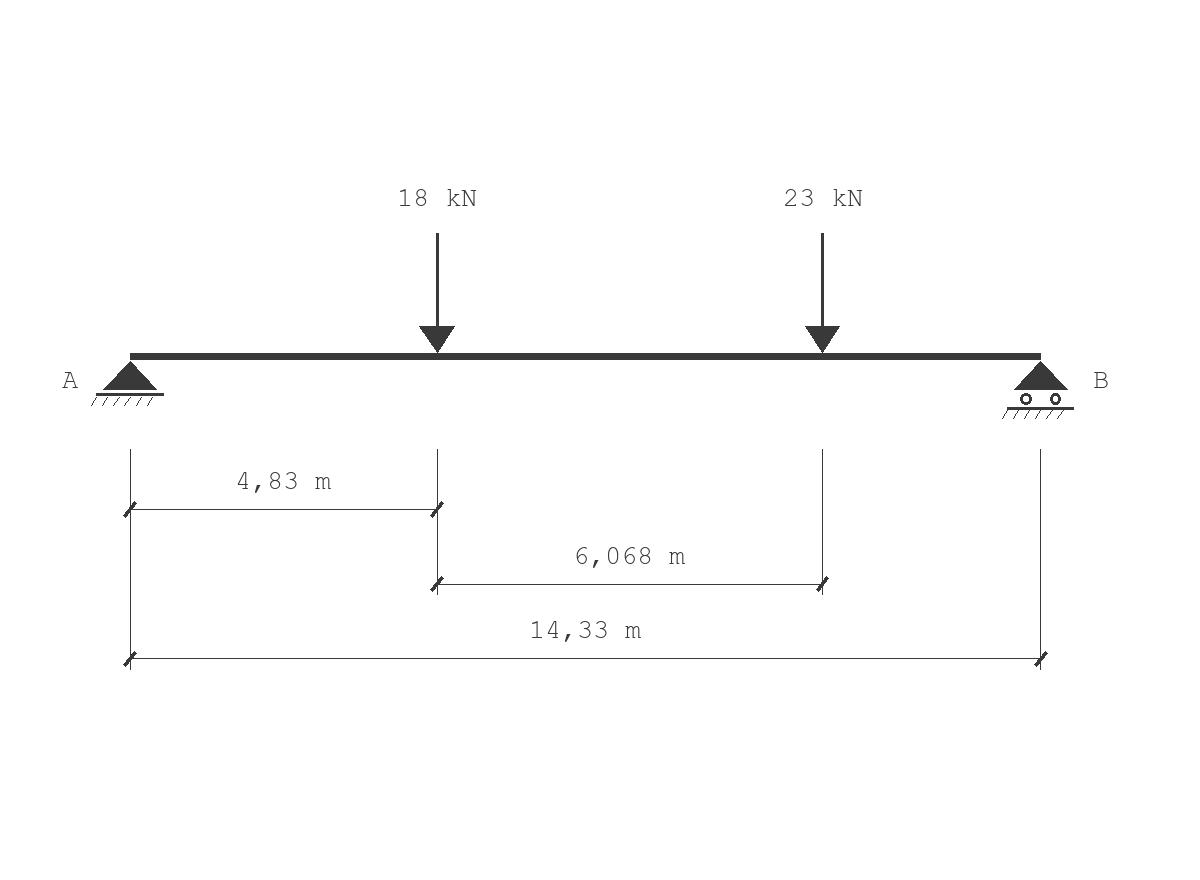pin_support: (91, 361, 164, 406)
point_load: (419, 233, 455, 353), (805, 233, 840, 353)
roller_support: (1002, 361, 1074, 419)
